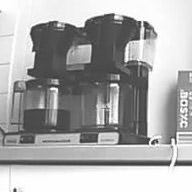not empty coffee: (8, 76, 74, 132)
